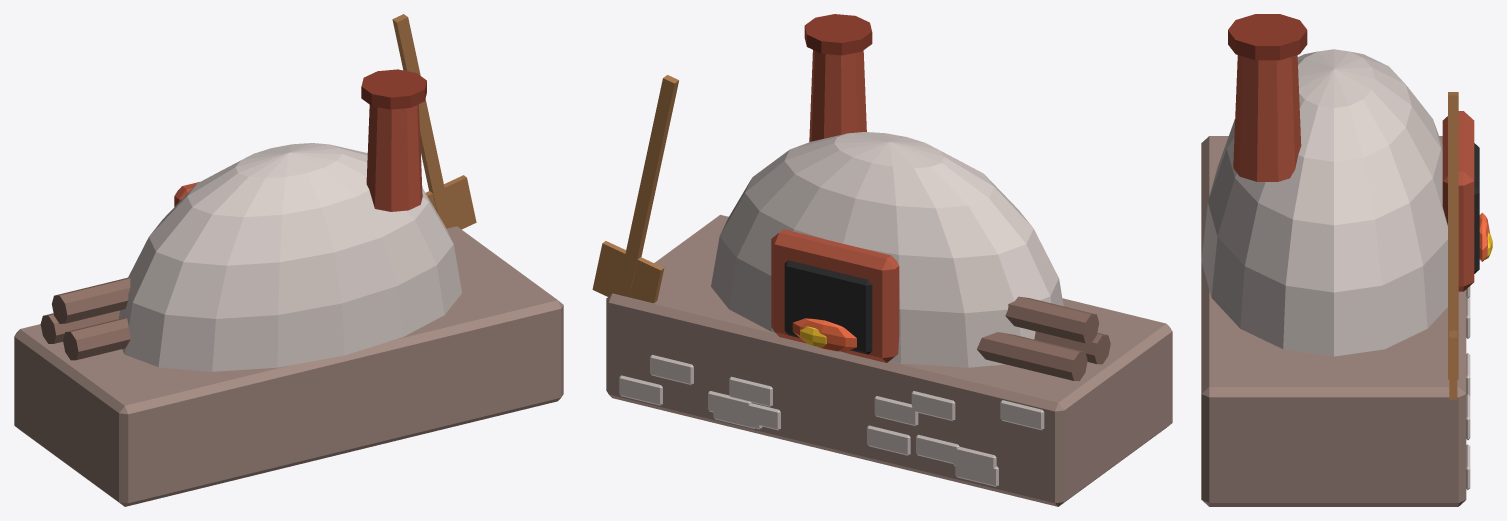
Rendered from Firin_Tas.fbx.
The picture shows the model from 3 angles, left to right: view 1: azimuth 30°, elevation 25°; view 2: azimuth 150°, elevation 25°; view 3: azimuth 270°, elevation 25°; orthographic projection. The views are drawn at different scales.
Visible parts, largest first — view 1: Firin_Tas; view 2: Firin_Tas; view 3: Firin_Tas.
Part boxes in pixels (x1,y1,x2,y2): Firin_Tas: (14,14,563,506); Firin_Tas: (592,14,1172,506); Firin_Tas: (1201,14,1492,506).
Size of the model in its own units: 237 by 165 by 110.
